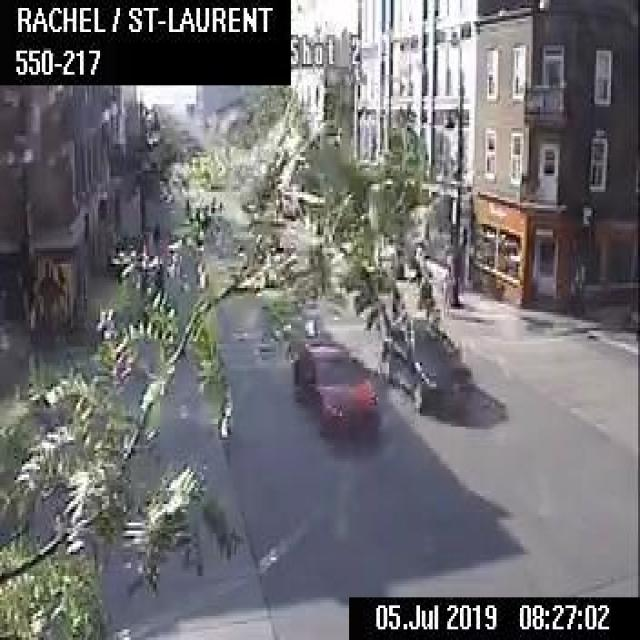vehicle: (289, 339, 379, 440), (383, 312, 474, 408)
